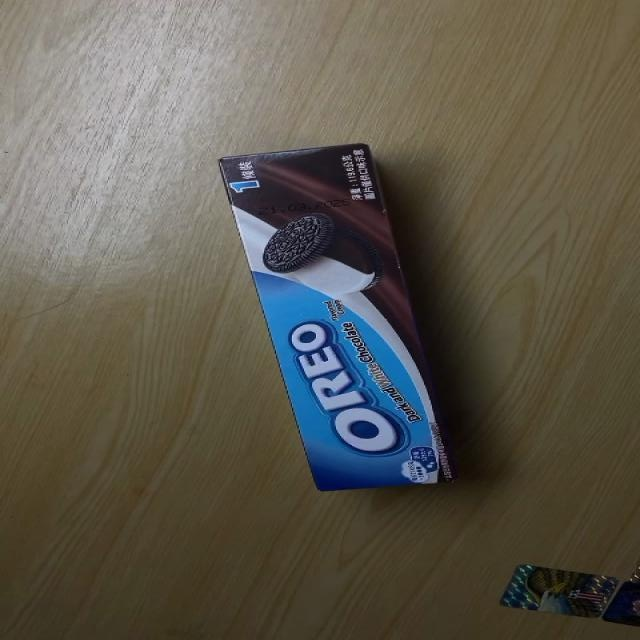Oreo: (217, 140, 450, 492)
